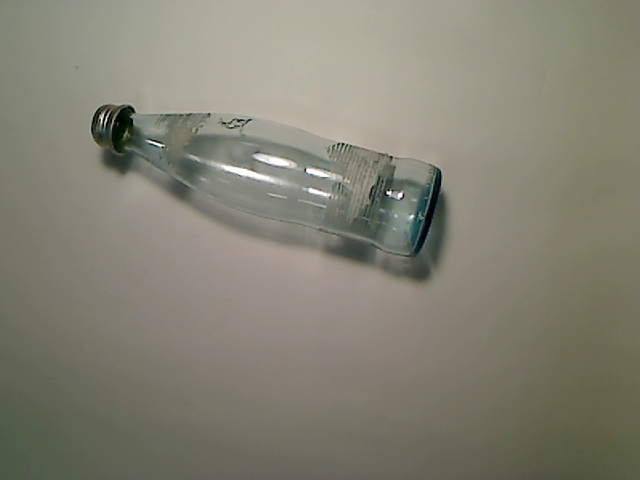bottle: (91, 103, 442, 260)
